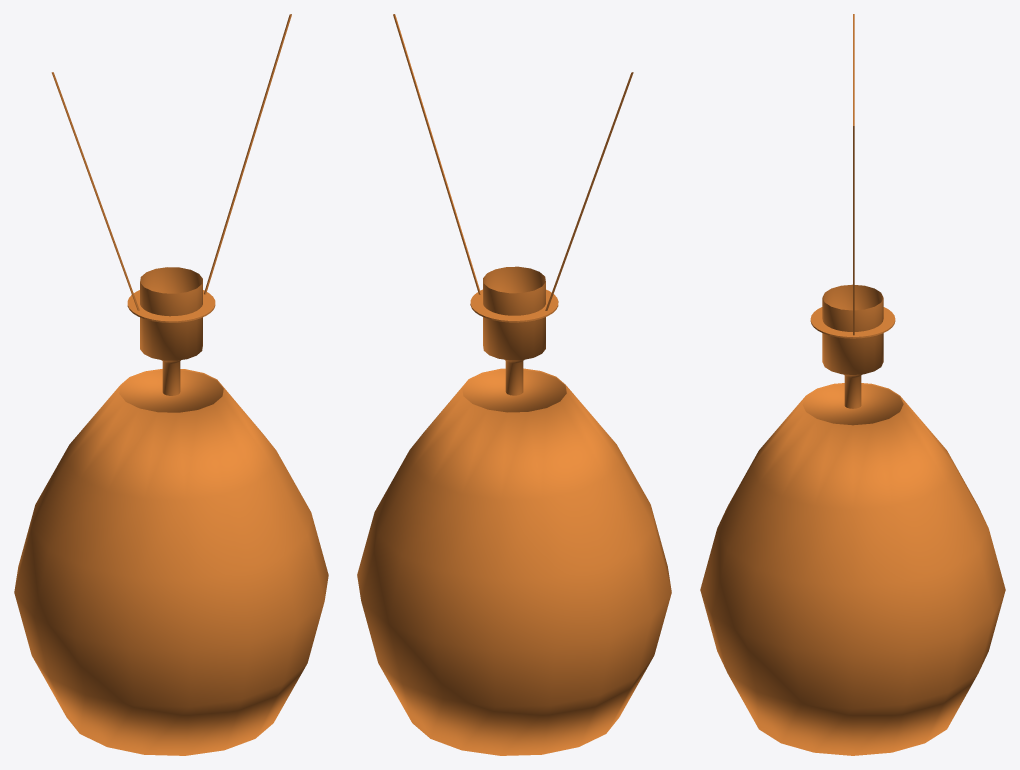
Rendered from LampNoShade.glb.
3 views of the same model, side by side, from view 1: azimuth 30°, elevation 25°; view 2: azimuth 150°, elevation 25°; view 3: azimuth 270°, elevation 25° (orthographic). The views are drawn at different scales.
Visible parts, largest first — view 1: Lamp_base; view 2: Lamp_base; view 3: Lamp_base.
Part boxes in pixels (bbox=[...]): Lamp_base: bbox=[14, 14, 328, 755]; Lamp_base: bbox=[357, 14, 671, 755]; Lamp_base: bbox=[700, 14, 1005, 755].
Bounding box in the file's own units: 0.18 × 0.418 × 0.18.
